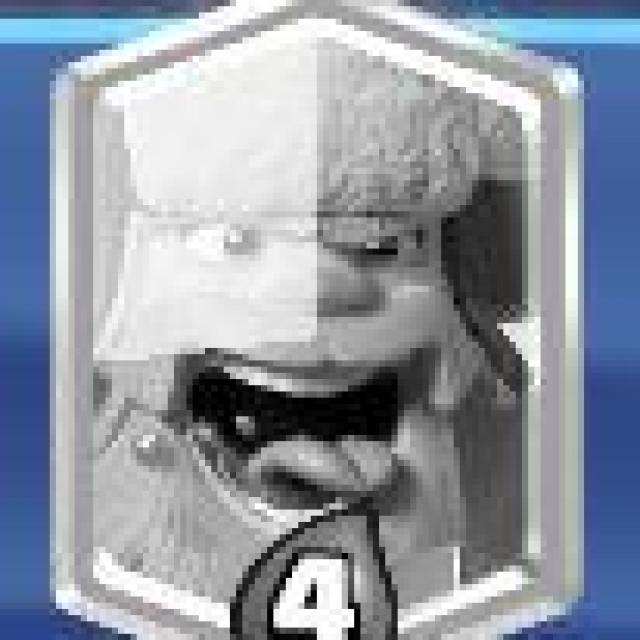Lumberjack: (55, 6, 587, 640)
